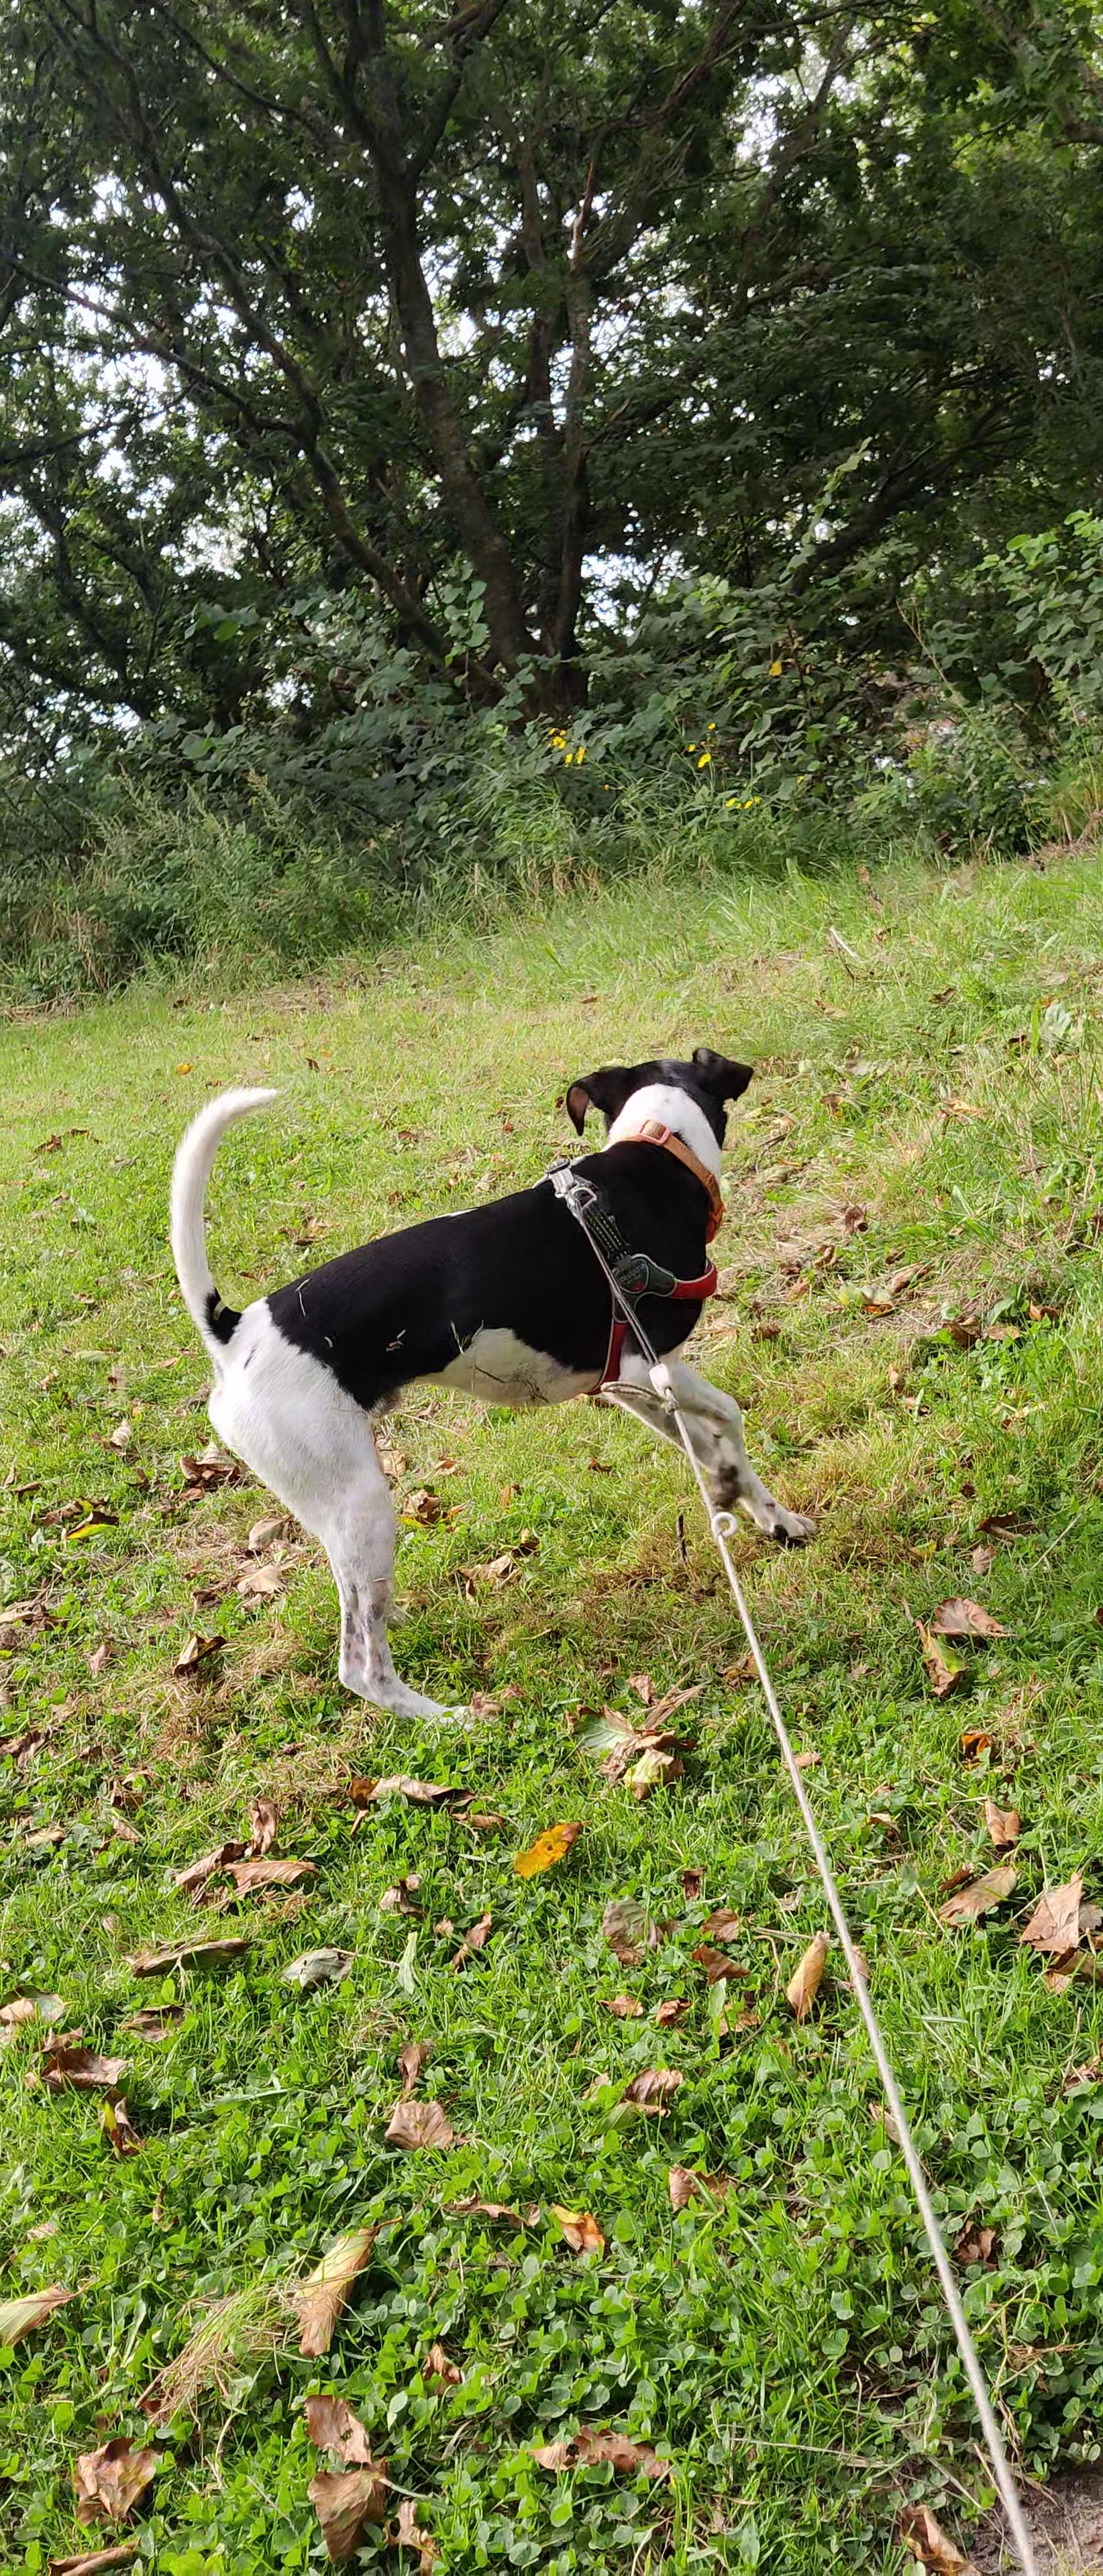Dog: (161, 1043, 822, 1738)
